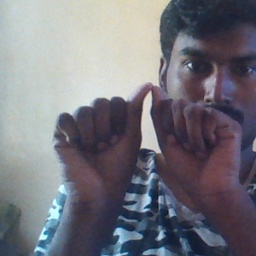A: (50, 80, 243, 196)
